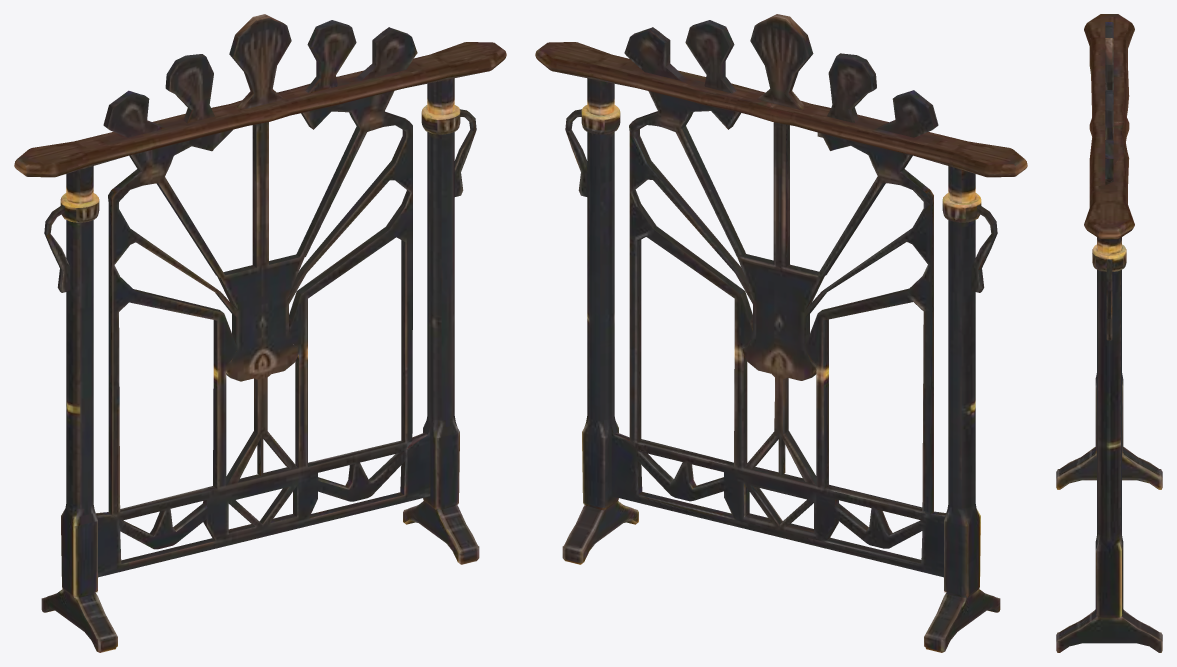
The model's file is ship_balustrade.glb.
The picture shows the model from 3 angles, left to right: view 1: azimuth 30°, elevation 25°; view 2: azimuth 150°, elevation 25°; view 3: azimuth 270°, elevation 25°; orthographic projection. The views are drawn at different scales.
Visible parts, largest first — view 1: mesh_node; view 2: mesh_node; view 3: mesh_node.
Part boxes in pixels (box(x1,y1,x2,y2)): mesh_node: box(14, 14, 506, 652); mesh_node: box(535, 14, 1027, 652); mesh_node: box(1056, 14, 1162, 652).
Size of the model in its own units: 1.69 by 1.91 by 0.3483.
1 material, 1 textured.
